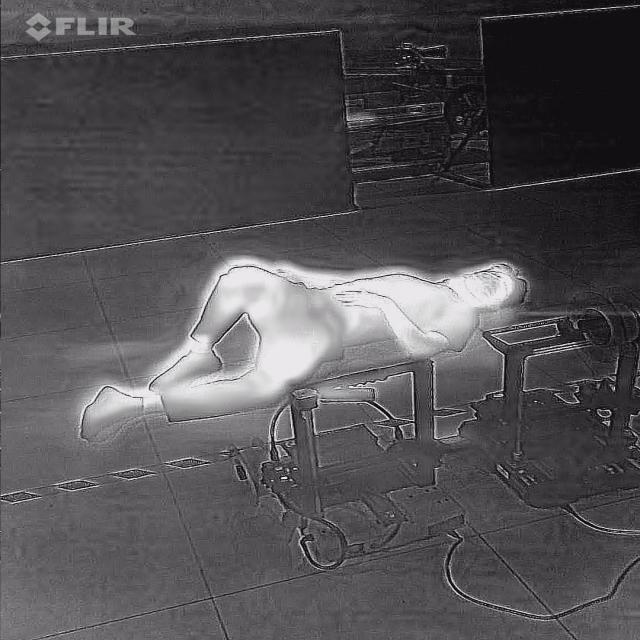Victim: (66, 247, 562, 451)
